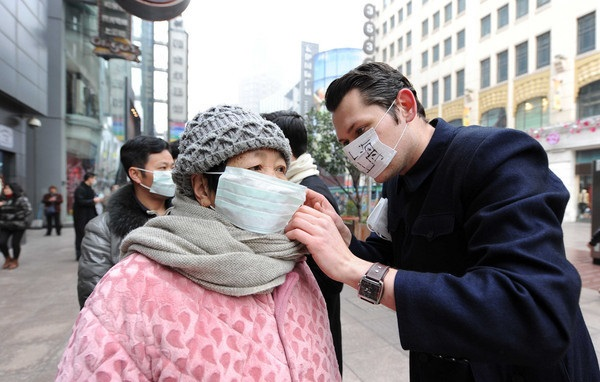face_mask: (222, 147, 289, 228), (332, 95, 396, 179), (138, 151, 184, 196)
